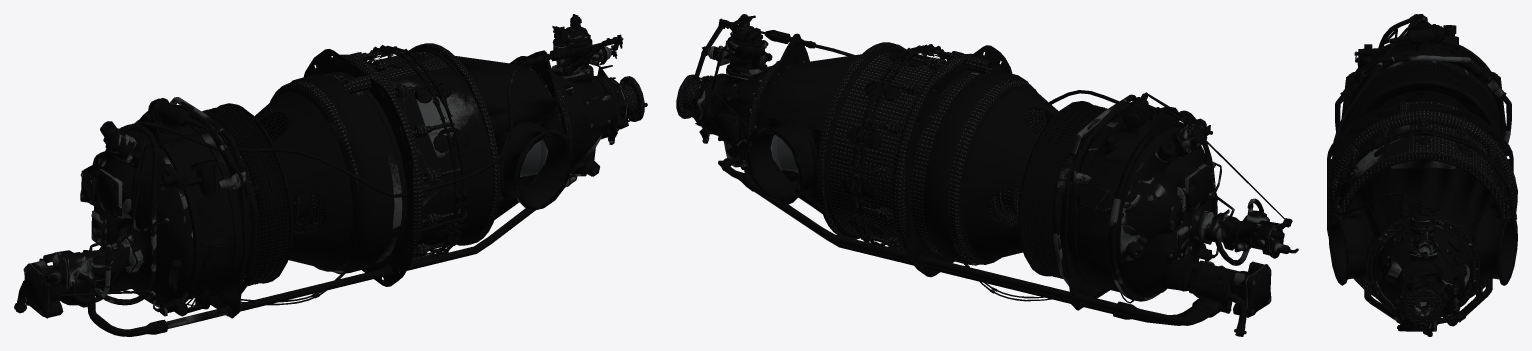
Rendered from home-engine.glb.
The picture shows the model from 3 angles, left to right: view 1: azimuth 30°, elevation 25°; view 2: azimuth 150°, elevation 25°; view 3: azimuth 270°, elevation 25°; orthographic projection. The views are drawn at different scales.
Parts seen in each view (by area): view 1: Engine section 3, Engine section 1, Engine section 4, Engine section 2; view 2: Engine section 3, Engine section 1, Engine section 4, Engine section 2; view 3: Engine section 4, Engine section 3, Engine section 1.
Part boxes in pixels (x1,y1,x2,y2): Engine section 3: (71, 44, 616, 328); Engine section 1: (14, 97, 299, 336); Engine section 4: (367, 14, 647, 245); Engine section 2: (187, 195, 417, 306); Engine section 3: (702, 43, 1291, 313); Engine section 1: (1013, 92, 1298, 336); Engine section 4: (676, 14, 915, 242); Engine section 2: (964, 187, 1133, 303); Engine section 4: (1328, 144, 1517, 336); Engine section 3: (1327, 14, 1517, 322); Engine section 1: (1335, 14, 1511, 143).
Size of the model in its own units: 1.48 by 0.5386 by 0.4769.
Materials: 1 (1 with a texture image).
